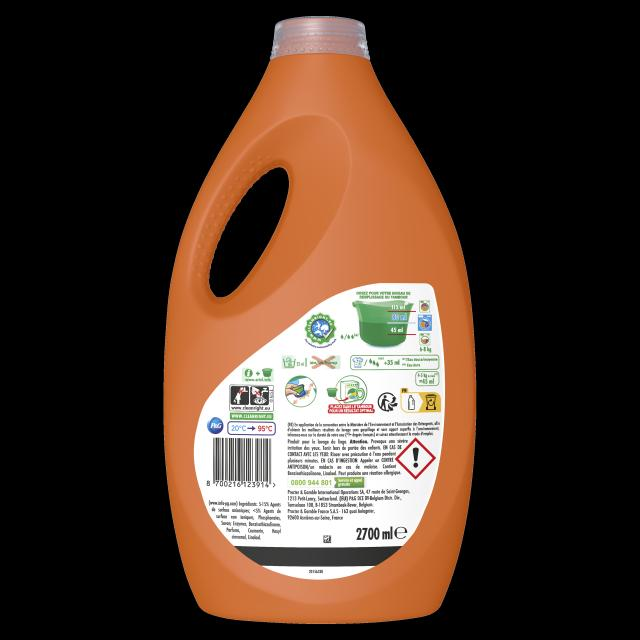GHS_Symbol_EXCLAMATION_MARK: (396, 437, 436, 480)
